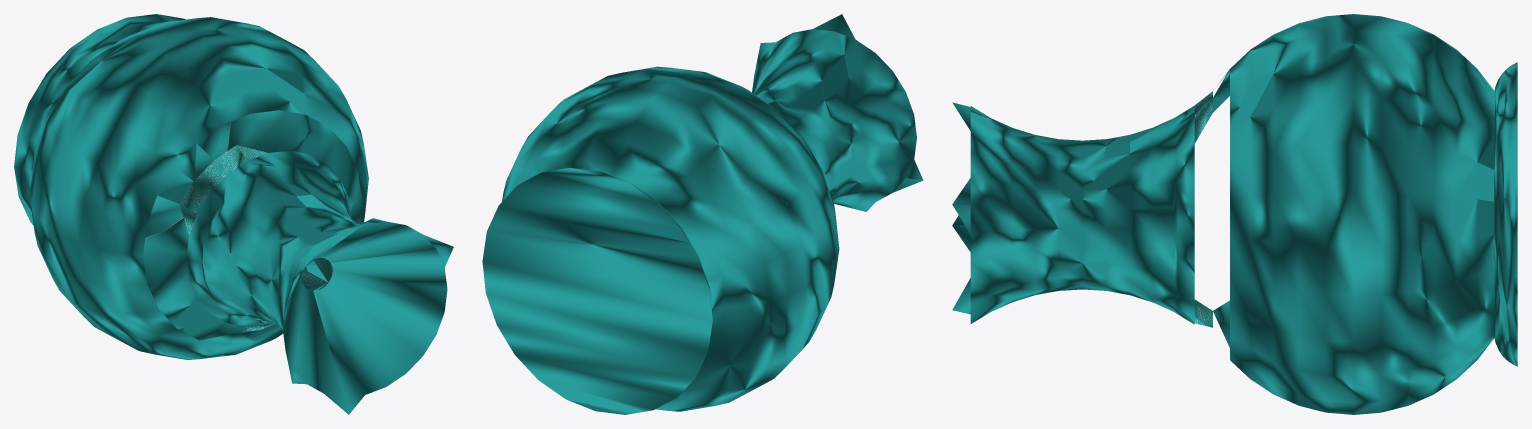
File: model_align.obj
The picture shows the model from 3 angles, left to right: view 1: azimuth 30°, elevation 25°; view 2: azimuth 150°, elevation 25°; view 3: azimuth 270°, elevation 25°; orthographic projection. The views are drawn at different scales.
Size of the model in its own units: 0.0844 by 0.0844 by 0.1184.
